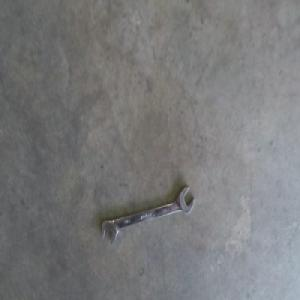Wrench: (100, 187, 194, 248)
